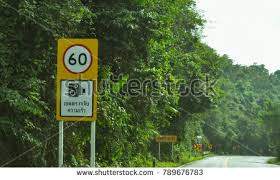Speed_limit_60km: (62, 44, 93, 74)
